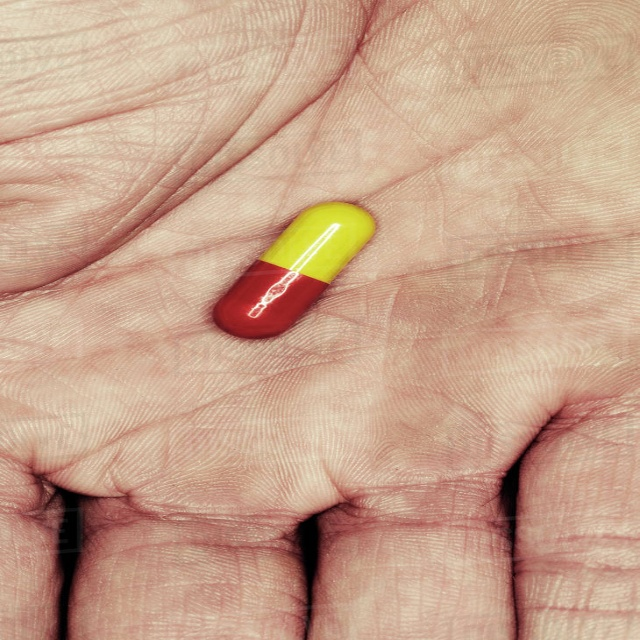pill: (244, 374, 428, 636)
